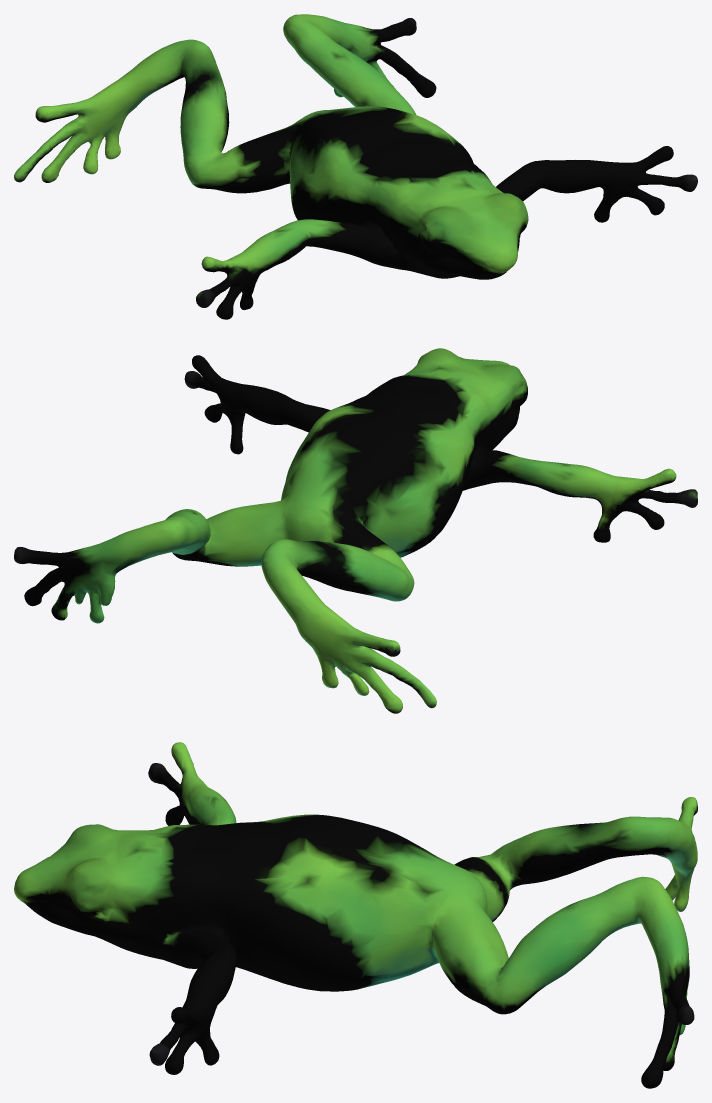
File: auratus.swim.glb
The picture shows the model from 3 angles, top to bottom: view 1: azimuth 30°, elevation 25°; view 2: azimuth 150°, elevation 25°; view 3: azimuth 270°, elevation 25°; orthographic projection. The views are drawn at different scales.
Visible parts, largest first — view 1: auratus.swim; view 2: auratus.swim; view 3: auratus.swim.
Part boxes in pixels (box(x1,y1,x2,y2)): auratus.swim: box(14, 14, 697, 319); auratus.swim: box(14, 348, 697, 713); auratus.swim: box(14, 742, 697, 1088).
Size of the model in its own units: 0.0583 by 0.0146 by 0.0587.
